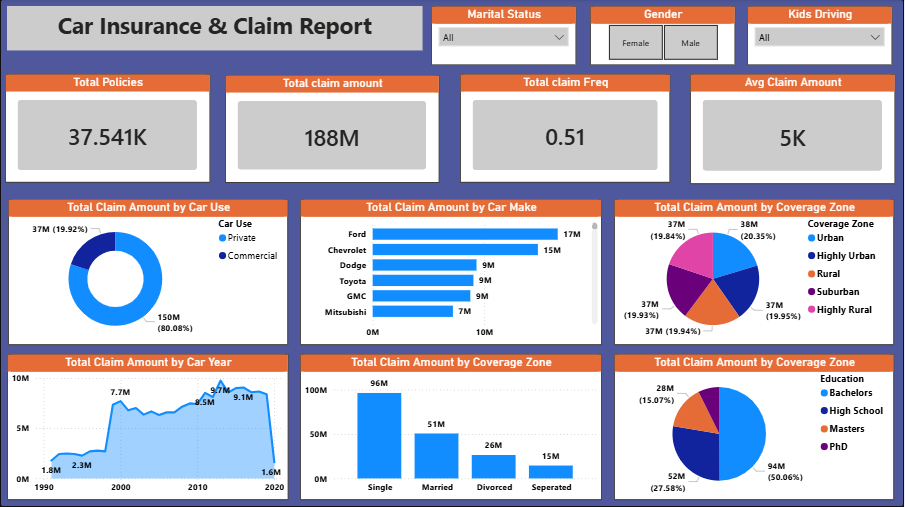

What the dashboard file says about the page in this screenshot:
{"tool":"powerbi","page":{"name":"Page 2","canvas":[1280,720],"ordinal":0},"visuals":[{"type":"slicer","title":"Marital Status","fields":{"Values":["Car Insurance & Claim Report.Marital Status"]},"box":[611.4,10,205.7,84.3],"z":0},{"type":"textbox","box":[10.1,10.1,589,63.4],"z":1000},{"type":"slicer","title":"Gender","fields":{"Values":["Car Insurance & Claim Report.Gender"]},"box":[835.7,10,205.7,84.3],"z":2000},{"type":"slicer","title":"Kids Driving","fields":{"Values":["Car Insurance & Claim Report.Kids Driving"]},"box":[1058.6,10,205.7,84.3],"z":3000},{"type":"group","id":"g1","title":"Group 1","box":[6.5,106.9,1261.4,155.5],"z":4000},{"type":"cardVisual","title":"Total Policies","fields":{"Data":["Count(Car Insurance & Claim Report.ID)"]},"box":[6.5,107,290.9,154.1],"z":4000,"group":"g1"},{"type":"cardVisual","title":"Total claim amount","fields":{"Data":["Sum(Car Insurance & Claim Report.Claim Amount)"]},"box":[319,108.6,303.8,152.6],"z":5000,"group":"g1"},{"type":"donutChart","title":"Total Claim Amount by Car Use","fields":{"Category":["Car Insurance & Claim Report.Car Use"],"Y":["Sum(Car Insurance & Claim Report.Claim Amount)"]},"box":[11.5,283.7,397.4,207.4],"z":5000},{"type":"cardVisual","title":"Total claim Freq","fields":{"Data":["Avg(Car Insurance & Claim Report.Claim Freq)"]},"box":[651.6,107.2,298.1,154.1],"z":6000,"group":"g1"},{"type":"clusteredBarChart","title":"Total Claim Amount by Car Make","fields":{"Y":["Sum(Car Insurance & Claim Report.Claim Amount)"],"Category":["Car Insurance & Claim Report.Car Make"]},"box":[424.8,283.7,427.7,207.4],"z":6000},{"type":"cardVisual","title":"Avg Claim Amount","fields":{"Data":["Avg(Car Insurance & Claim Report.Claim Amount)"]},"box":[977.1,106.9,290.9,155.5],"z":7000,"group":"g1"},{"type":"pieChart","title":"Total Claim Amount by Coverage Zone","fields":{"Y":["Sum(Car Insurance & Claim Report.Claim Amount)"],"Category":["Car Insurance & Claim Report.Coverage Zone"]},"box":[869.8,283.7,397.4,207.4],"z":7000},{"type":"areaChart","title":"Total Claim Amount by Car Year","fields":{"Category":["Car Insurance & Claim Report.Car Year"],"Y":["Sum(Car Insurance & Claim Report.Claim Amount)"]},"box":[10.1,502.6,398.9,207.4],"z":8000},{"type":"pieChart","title":"Total Claim Amount by Coverage Zone","fields":{"Y":["Sum(Car Insurance & Claim Report.Claim Amount)"],"Category":["Car Insurance & Claim Report.Education"]},"box":[869.8,502.6,397.4,207.4],"z":9000},{"type":"columnChart","title":"Total Claim Amount by Coverage Zone","fields":{"Category":["Car Insurance & Claim Report.Marital Status"],"Y":["Sum(Car Insurance & Claim Report.Claim Amount)"]},"box":[424.8,502.6,427.7,207.4],"z":10000}]}

Visuals, with their boxes in screenshot pixels (x1, y1, x2, y2), scaled from the page's 1280x720 canvas onto the 905x507 screenshot:
"Marital Status" slicer: <bbox>432, 7, 578, 66</bbox>
textbox: <bbox>7, 7, 424, 52</bbox>
"Gender" slicer: <bbox>591, 7, 736, 66</bbox>
"Kids Driving" slicer: <bbox>748, 7, 894, 66</bbox>
"Group 1" group: <bbox>5, 75, 896, 185</bbox>
"Total Policies" cardVisual: <bbox>5, 75, 210, 184</bbox>
"Total claim amount" cardVisual: <bbox>226, 76, 440, 184</bbox>
"Total Claim Amount by Car Use" donutChart: <bbox>8, 200, 289, 346</bbox>
"Total claim Freq" cardVisual: <bbox>461, 75, 671, 184</bbox>
"Total Claim Amount by Car Make" clusteredBarChart: <bbox>300, 200, 603, 346</bbox>
"Avg Claim Amount" cardVisual: <bbox>691, 75, 897, 185</bbox>
"Total Claim Amount by Coverage Zone" pieChart: <bbox>615, 200, 896, 346</bbox>
"Total Claim Amount by Car Year" areaChart: <bbox>7, 354, 289, 500</bbox>
"Total Claim Amount by Coverage Zone" pieChart: <bbox>615, 354, 896, 500</bbox>
"Total Claim Amount by Coverage Zone" columnChart: <bbox>300, 354, 603, 500</bbox>
